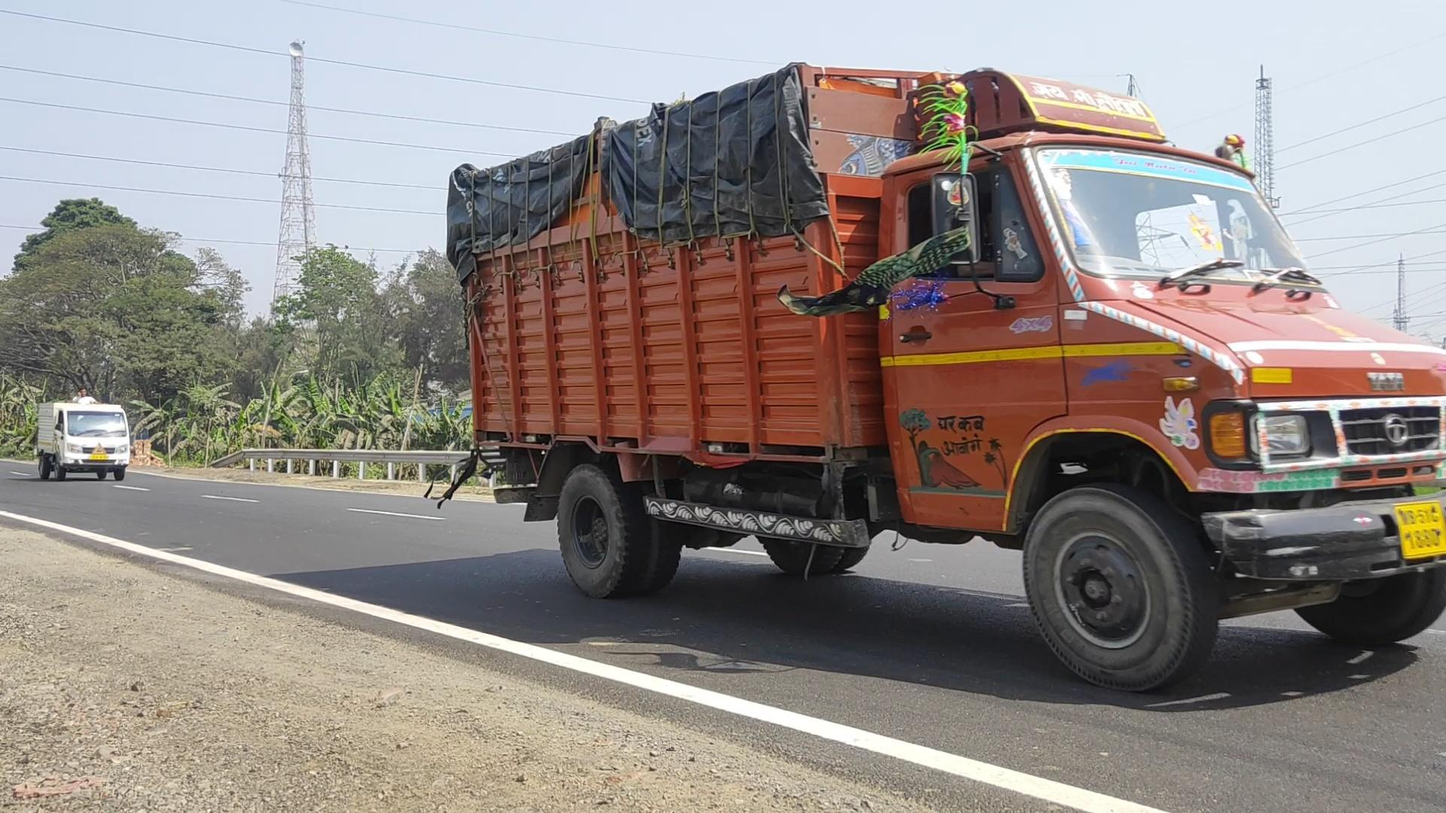truck: (447, 61, 1446, 695)
van: (36, 387, 129, 482)
